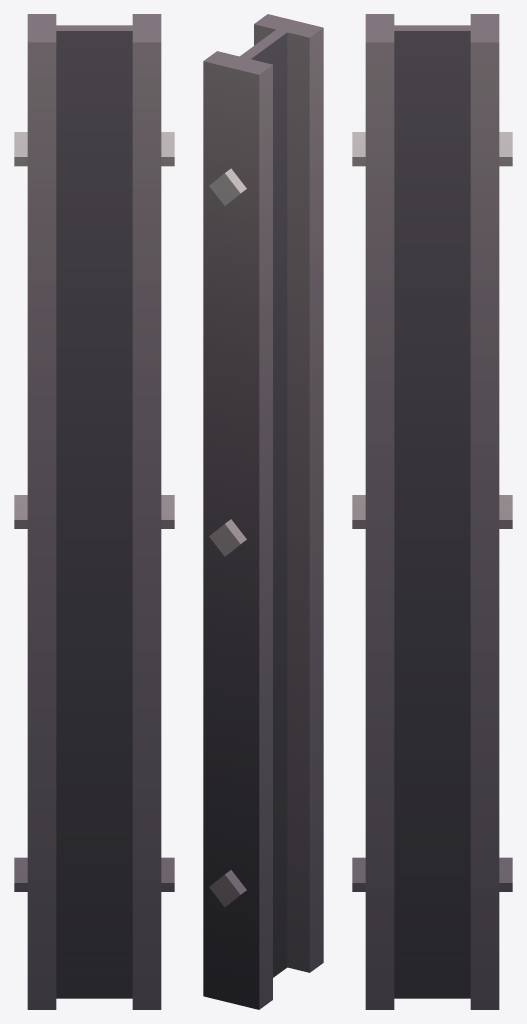
File: Pillar_Verti_001.FBX
3 renders of one model, left to right at view 1: azimuth 90°, elevation 25°; view 2: azimuth 150°, elevation 25°; view 3: azimuth 270°, elevation 25°, orthographic. The views are drawn at different scales.
Parts seen in each view (by area): view 1: Pillar_Verti_001; view 2: Pillar_Verti_001; view 3: Pillar_Verti_001.
Boxes of the visible parts, x1,y1,x2,y2 form: Pillar_Verti_001: [14, 14, 174, 1009]; Pillar_Verti_001: [203, 14, 323, 1009]; Pillar_Verti_001: [352, 14, 512, 1009].
Size of the model in its own units: 0.1252 by 2 by 0.3.
Materials: 1 (1 with a texture image).
